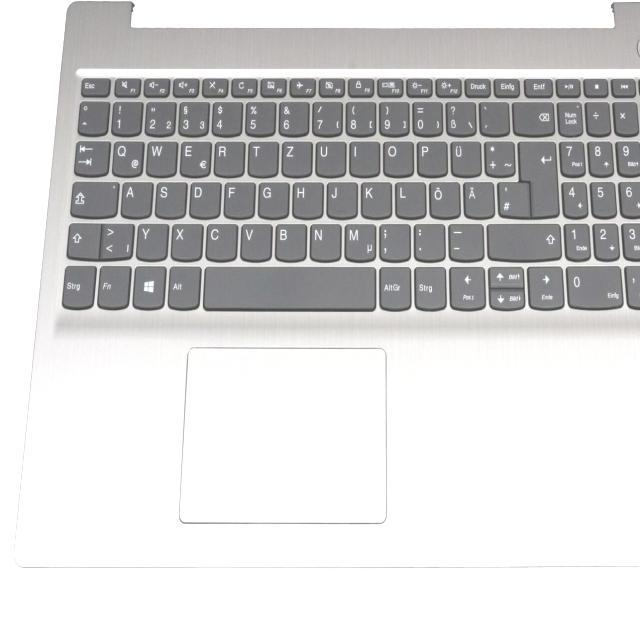0: (410, 98, 442, 134)
1: (110, 98, 141, 134)
2: (144, 98, 176, 134)
3: (177, 98, 209, 134)
4: (211, 98, 241, 134)
5: (244, 99, 275, 134)
6: (278, 99, 308, 134)
7: (311, 98, 341, 134)
8: (344, 98, 375, 134)
9: (377, 98, 409, 134)
a: (119, 178, 151, 216)
accent: (477, 99, 508, 134)
ae: (462, 178, 494, 216)
alt-left: (165, 262, 199, 308)
altgr-right: (377, 263, 410, 309)
b: (273, 220, 306, 260)
c: (204, 220, 237, 259)
caret: (76, 98, 107, 133)
comma: (378, 221, 410, 260)
d: (188, 179, 220, 217)
del: (511, 98, 553, 134)
e: (178, 138, 210, 175)
enter: (517, 137, 558, 216)
f: (222, 179, 254, 217)
g: (256, 179, 288, 216)
h: (290, 179, 322, 217)
hash: (496, 178, 528, 215)
i: (348, 138, 379, 175)
j: (325, 178, 357, 216)
k: (359, 178, 391, 216)
keyboard: (54, 61, 640, 325)
l: (393, 178, 425, 216)
less: (99, 220, 133, 258)
m: (343, 220, 375, 260)
minus: (445, 220, 483, 259)
n: (308, 221, 341, 260)
o: (381, 138, 413, 175)
oe: (427, 178, 459, 216)
p: (414, 138, 446, 175)
plus: (482, 137, 513, 174)
point: (412, 220, 444, 259)
q: (111, 138, 143, 175)
r: (212, 139, 244, 175)
s: (154, 178, 186, 216)
shift-left: (65, 219, 99, 257)
shift-lock: (68, 178, 117, 216)
shift-right: (486, 219, 561, 259)
space: (201, 263, 375, 308)
ss: (444, 99, 475, 134)
strg-left: (60, 261, 95, 307)
strg-right: (411, 263, 445, 309)
t: (247, 138, 277, 175)
tab: (72, 137, 108, 174)
u: (313, 139, 345, 175)
ue: (448, 138, 480, 175)
v: (239, 221, 271, 260)
w: (144, 138, 176, 175)
x: (170, 220, 202, 259)
y: (135, 220, 167, 259)
z: (280, 138, 311, 175)
